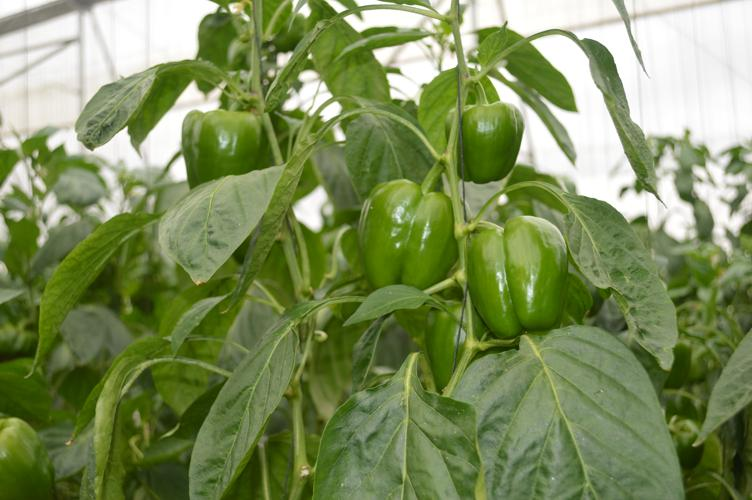BellPepper: (350, 177, 463, 311), (462, 218, 573, 342), (172, 104, 281, 200), (446, 100, 524, 191), (1, 409, 66, 500)
